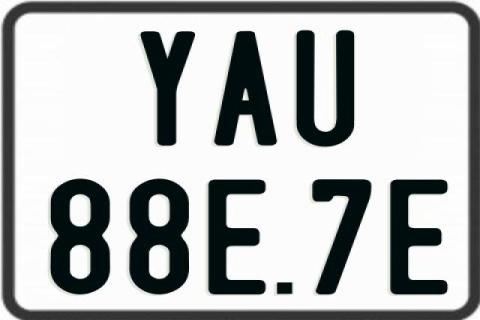0: (312, 178, 376, 294), (127, 178, 188, 298), (48, 177, 108, 295)
A: (214, 29, 284, 147)
E: (387, 179, 451, 299), (208, 180, 266, 297)
U: (295, 30, 354, 150)
Y: (138, 29, 194, 145)
